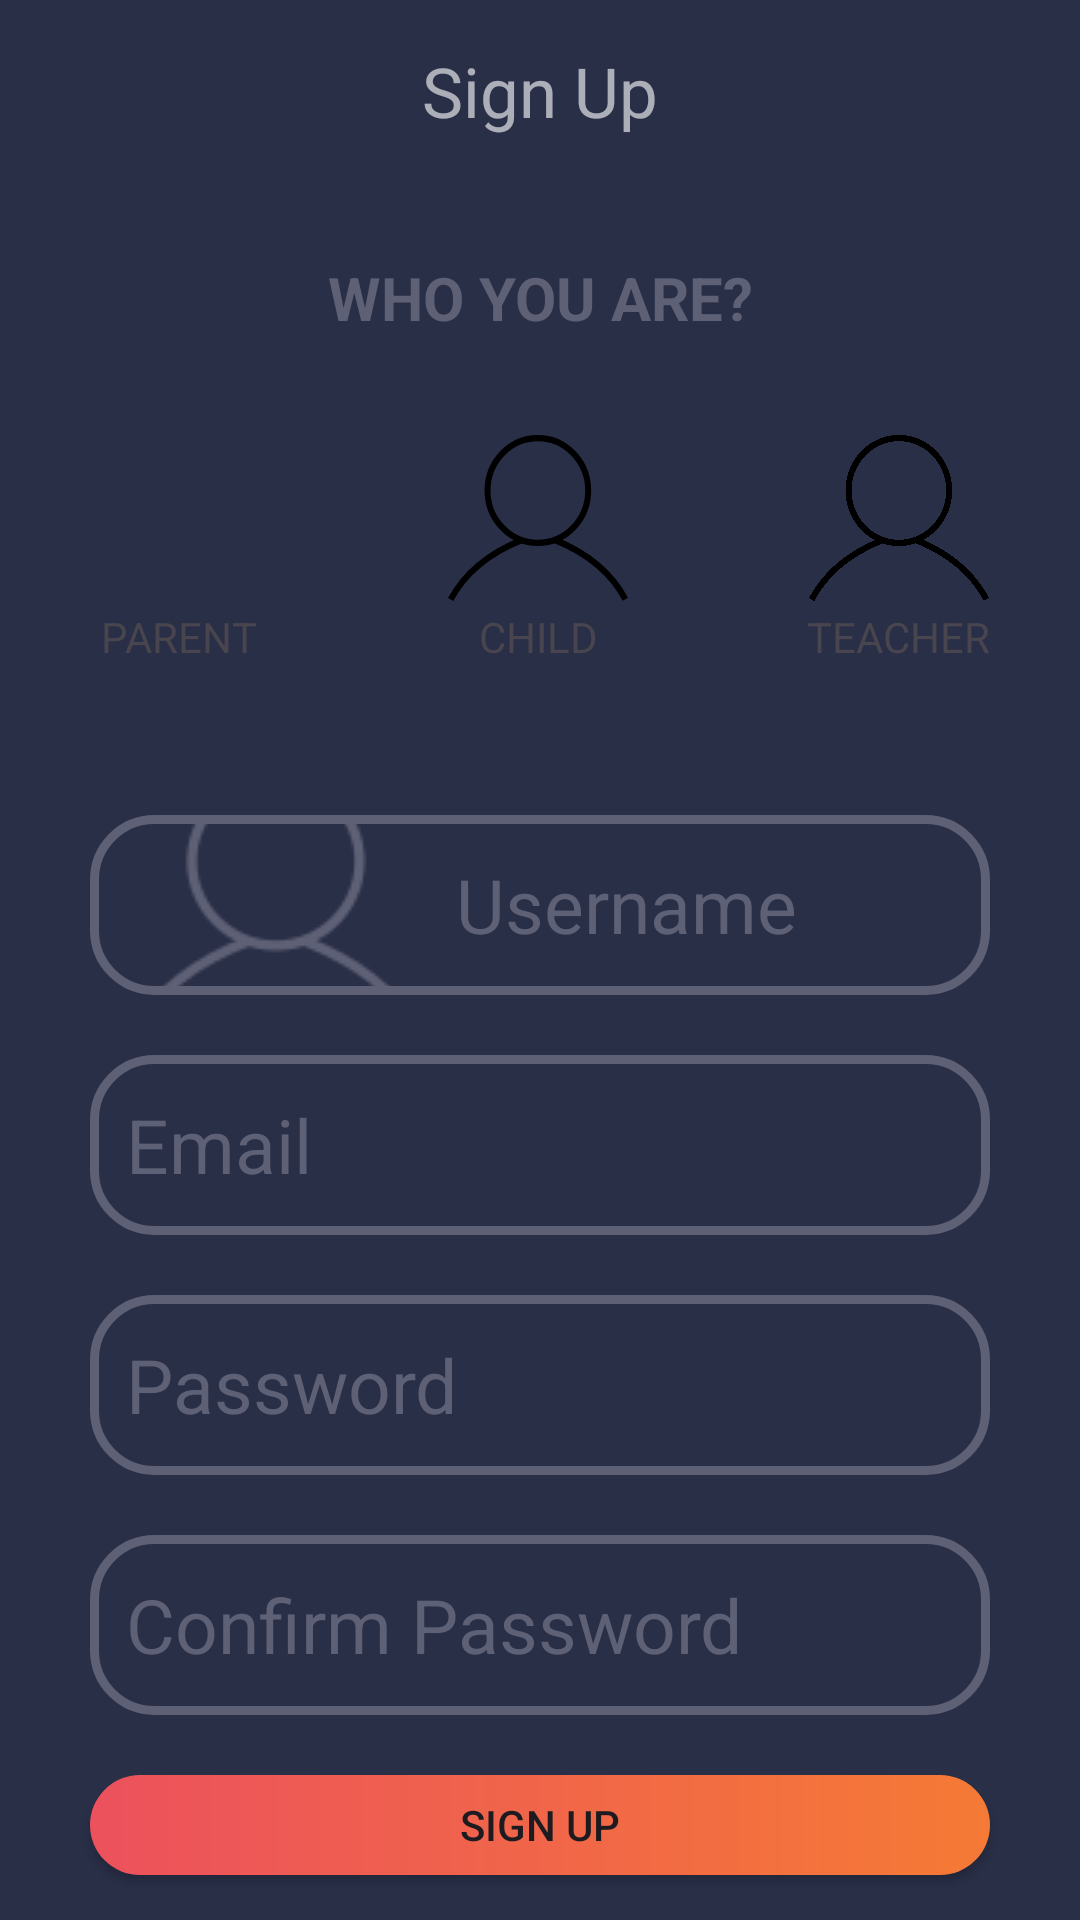

Named icons in this screenshot (1080px×1920px) and their bounding boxes, [x1,y1,x2,y2]:
usuario: [448,435,628,601], [809,435,989,601]
